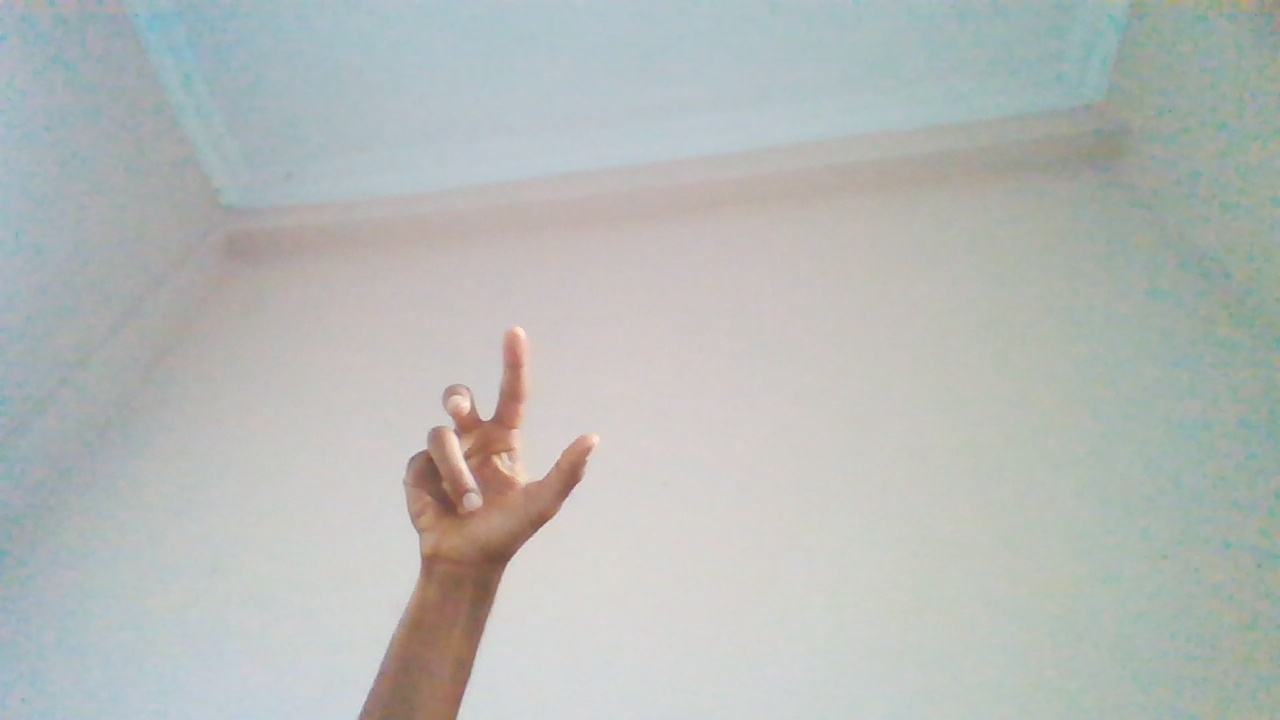hhe: (406, 327, 596, 651)
